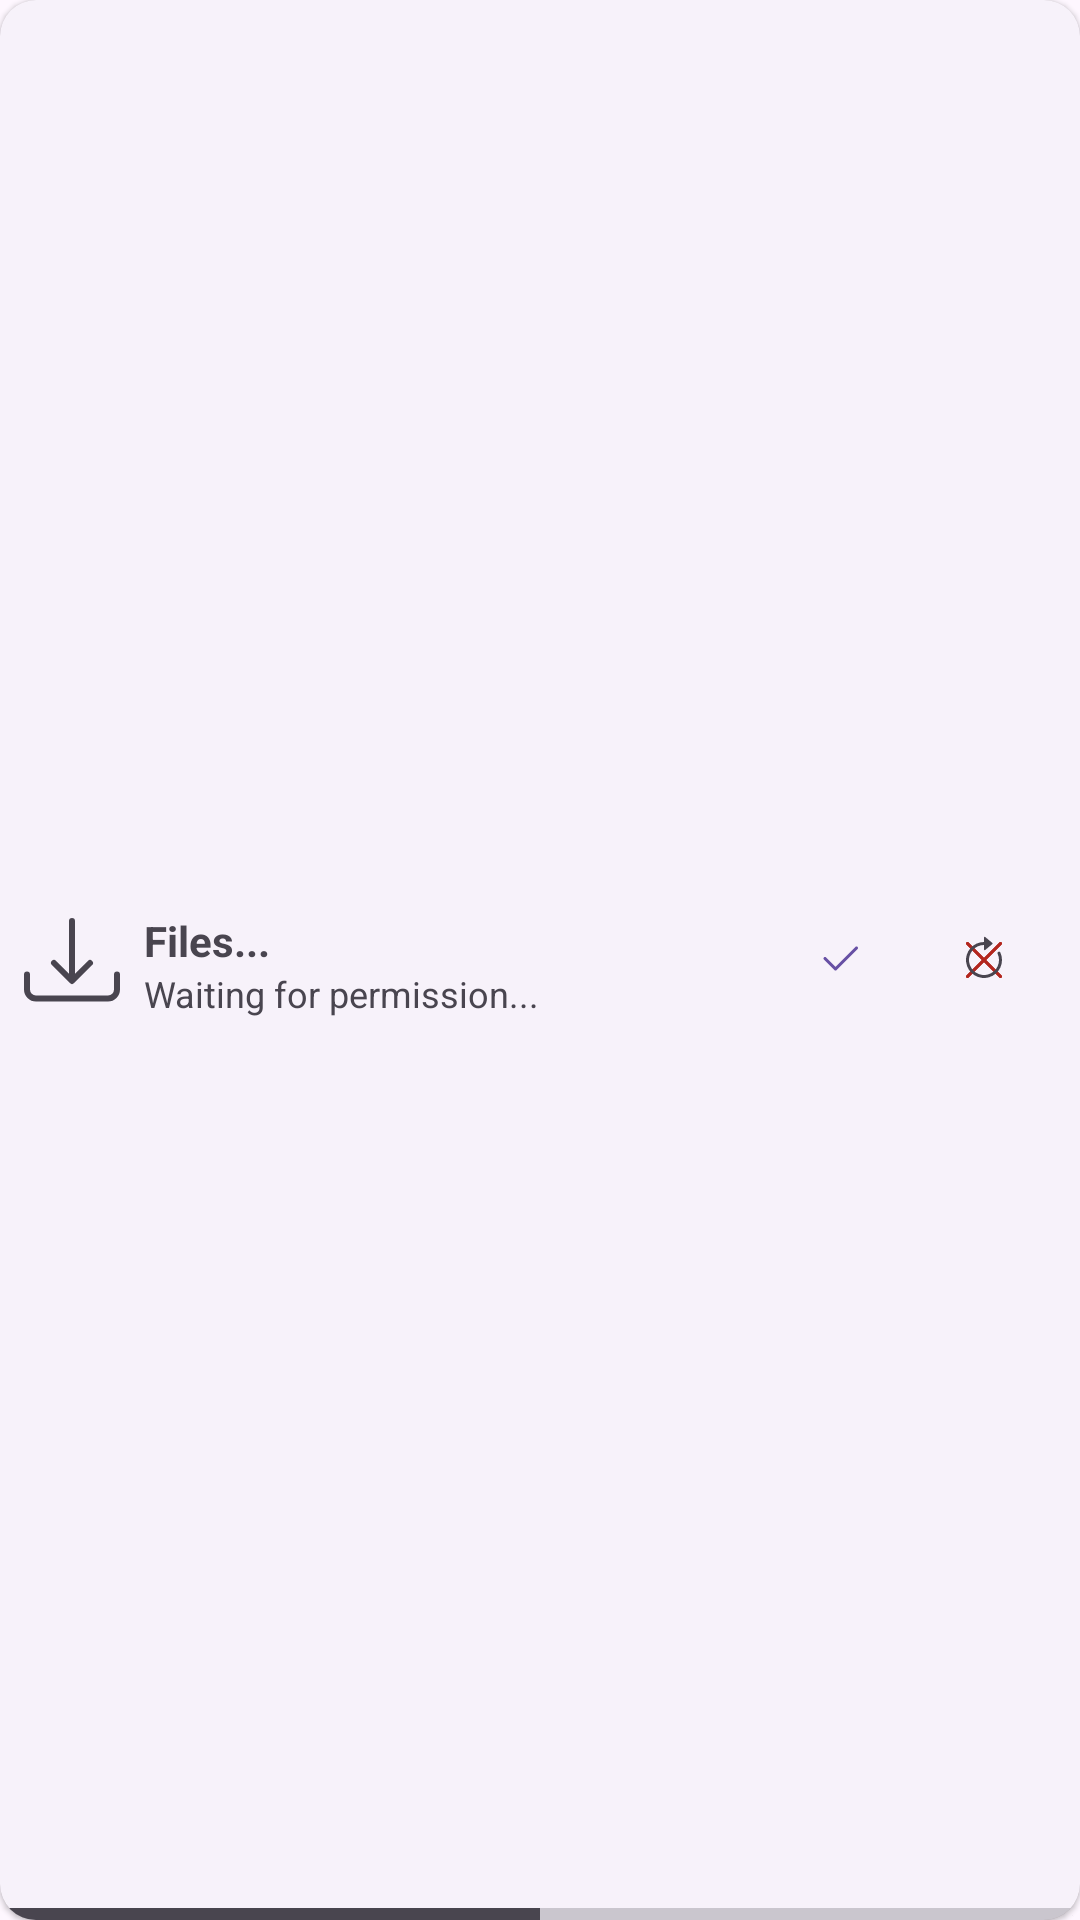

Screen size 1080×1920. Icon name, then its box in pixels as (x1, y1, x2, y2):
Accept the transfer: (823, 946, 858, 971)
bi download: (24, 918, 120, 1002)
